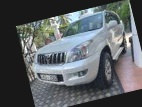car: (23, 7, 137, 103)
